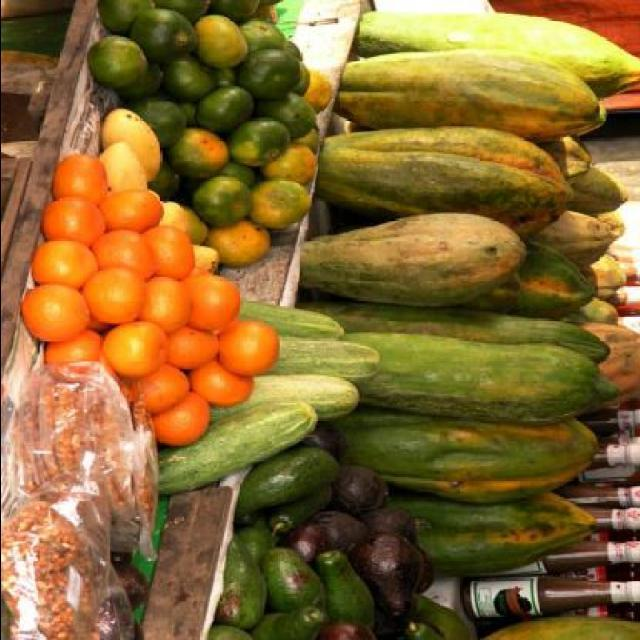Cucumber: (180, 392, 308, 488), (213, 370, 361, 421), (260, 338, 382, 382), (240, 300, 342, 338)
